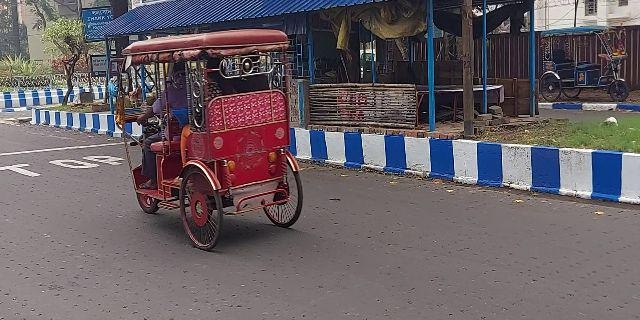Rickshaw: (114, 32, 316, 251)
